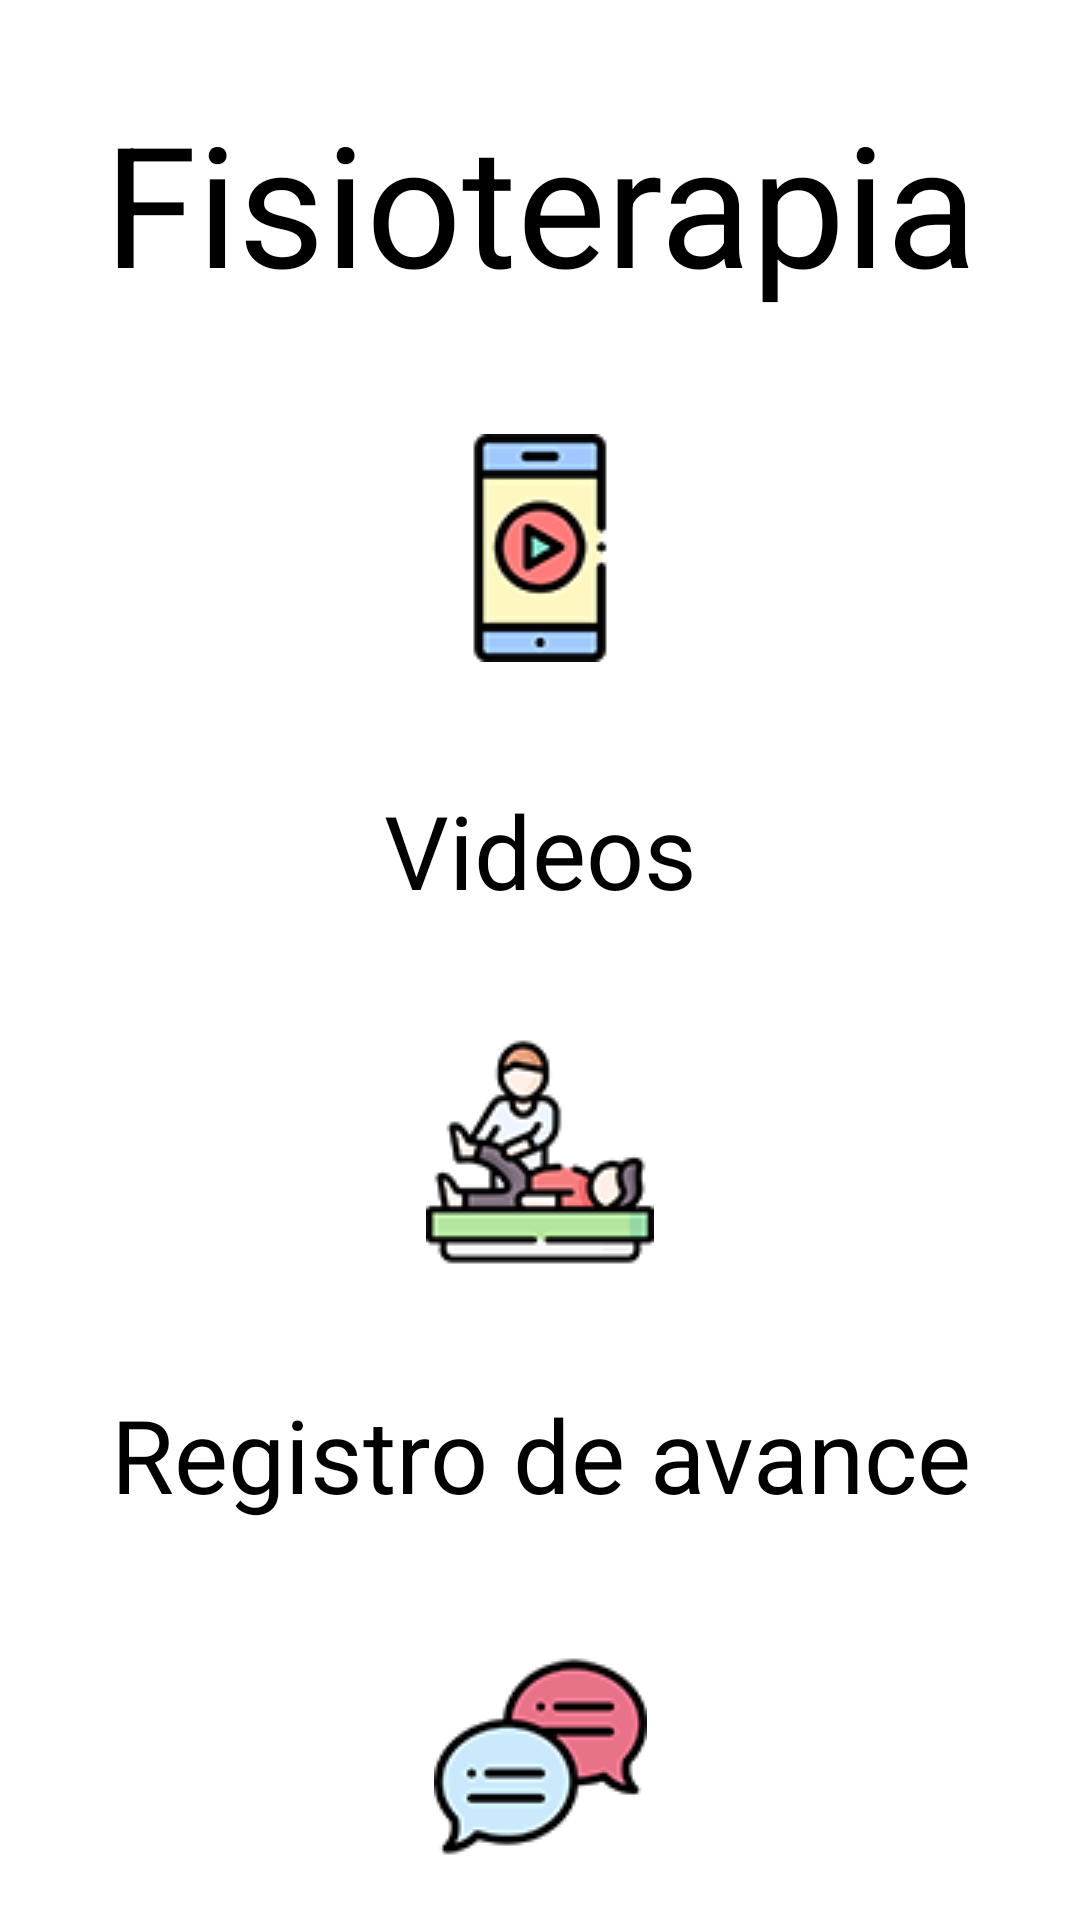

Screen size 1080×1920. Icon name, then its box in pixels as bbox=[x1, y1, x2, y2]:
terapia: bbox=[426, 1040, 654, 1264]
